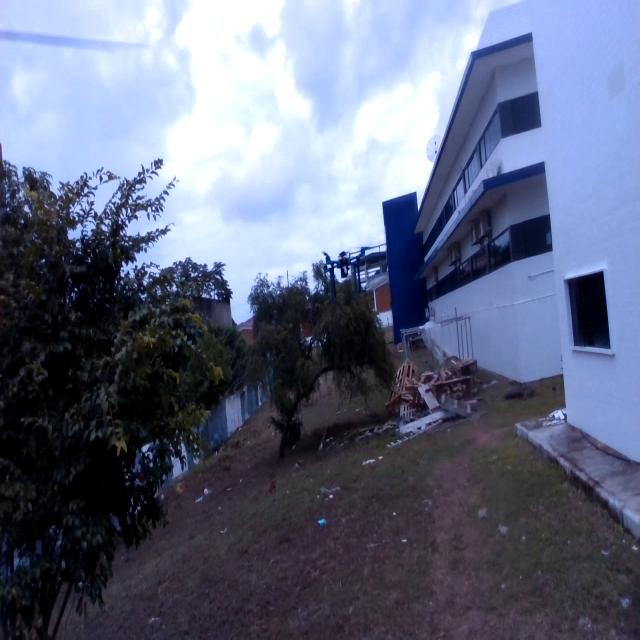-uav-: (314, 230, 385, 311)
